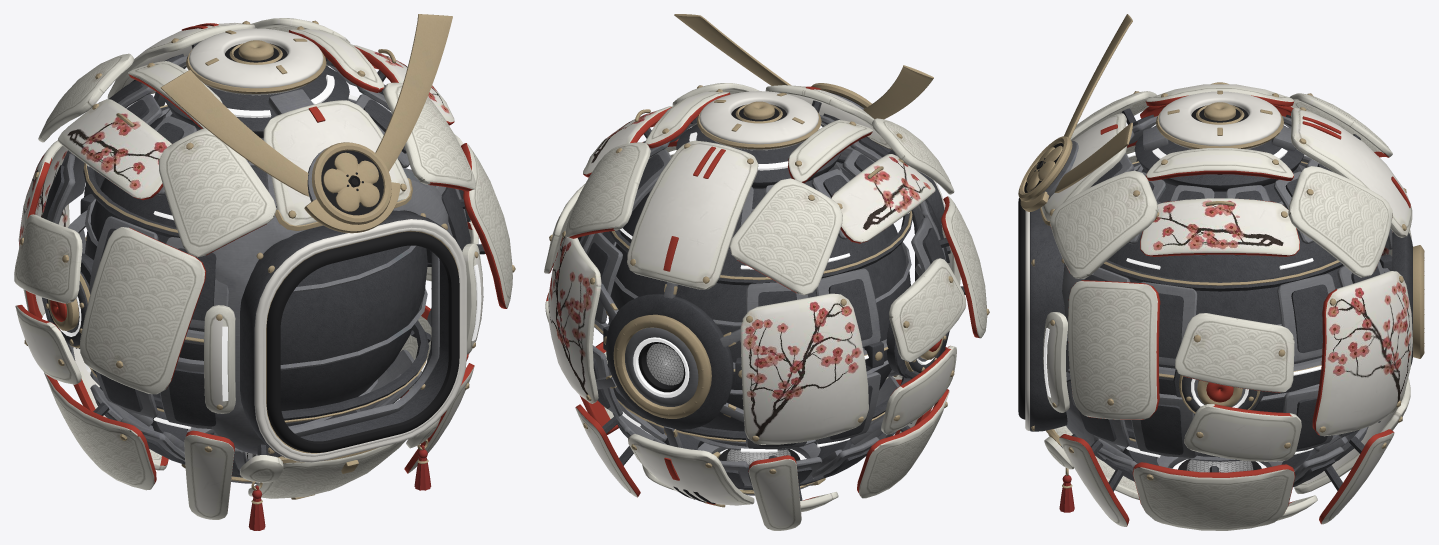
The model's file is japanese-white-samurai-sakura.glb.
The picture shows the model from 3 angles, left to right: view 1: azimuth 30°, elevation 25°; view 2: azimuth 150°, elevation 25°; view 3: azimuth 270°, elevation 25°; orthographic projection. The views are drawn at different scales.
Parts seen in each view (by area): view 1: japanese_white_samurai_sakura; view 2: japanese_white_samurai_sakura; view 3: japanese_white_samurai_sakura.
Part boxes in pixels (box(x1,y1,x2,y2)): japanese_white_samurai_sakura: box(14, 14, 515, 530); japanese_white_samurai_sakura: box(544, 14, 989, 530); japanese_white_samurai_sakura: box(1018, 14, 1424, 530).
Size of the model in its own units: 0.8389 by 0.8494 by 0.7475.
Materials: 8 (5 with a texture image).
